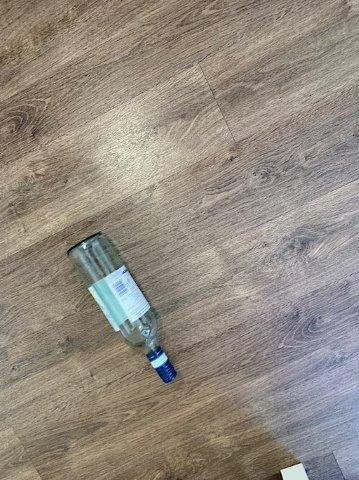botolkaca: (67, 229, 177, 383)
